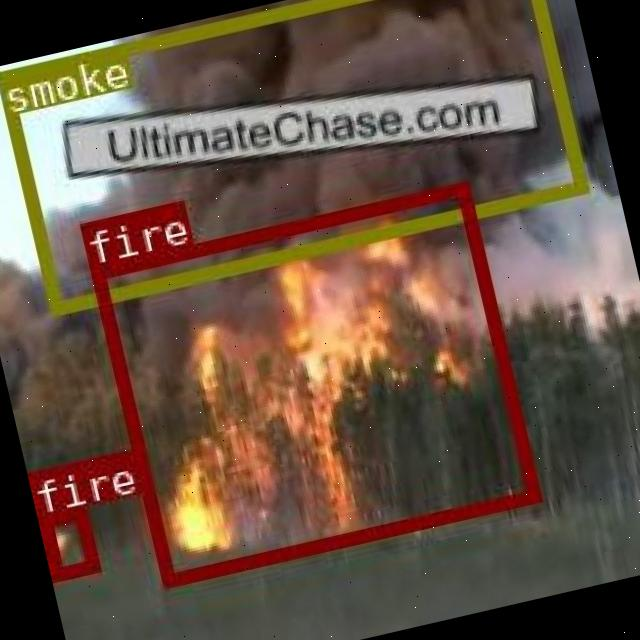fire: (90, 180, 538, 584), (36, 504, 98, 580)
smoke: (0, 0, 584, 312)
